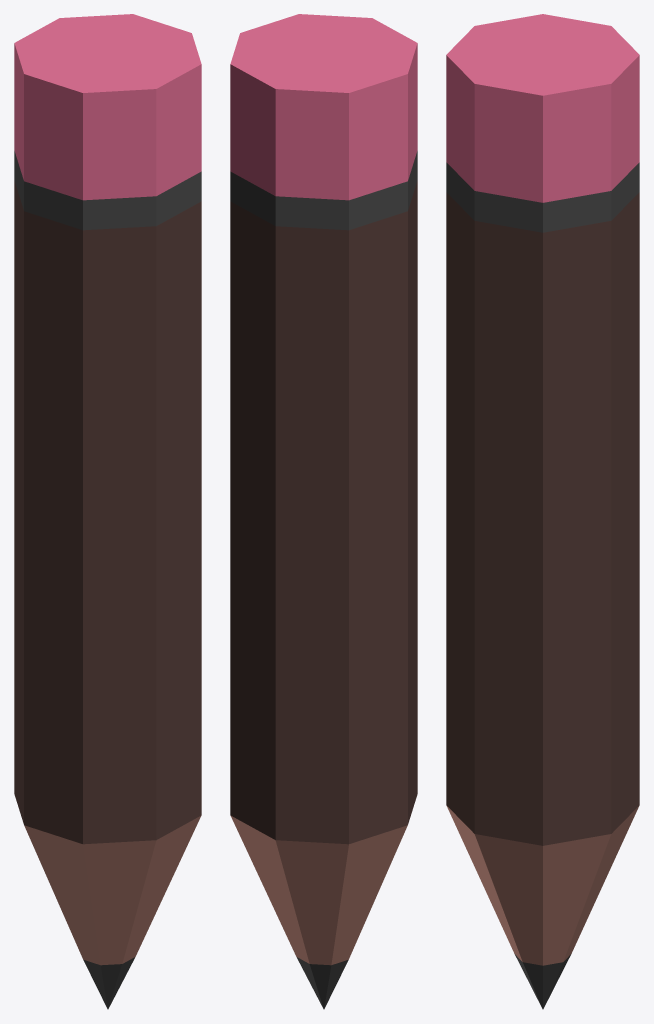
File: pencil.fbx
3 views of the same model, side by side, from view 1: azimuth 30°, elevation 25°; view 2: azimuth 150°, elevation 25°; view 3: azimuth 270°, elevation 25° (orthographic).
Parts seen in each view (by area): view 1: pencil; view 2: pencil; view 3: pencil.
Part boxes in pixels (x1,y1,x2,y2): pencil: [14, 14, 201, 1009]; pencil: [230, 14, 417, 1009]; pencil: [446, 14, 639, 1009].
Bounding box in the file's own units: 7 × 38.12 × 7.
